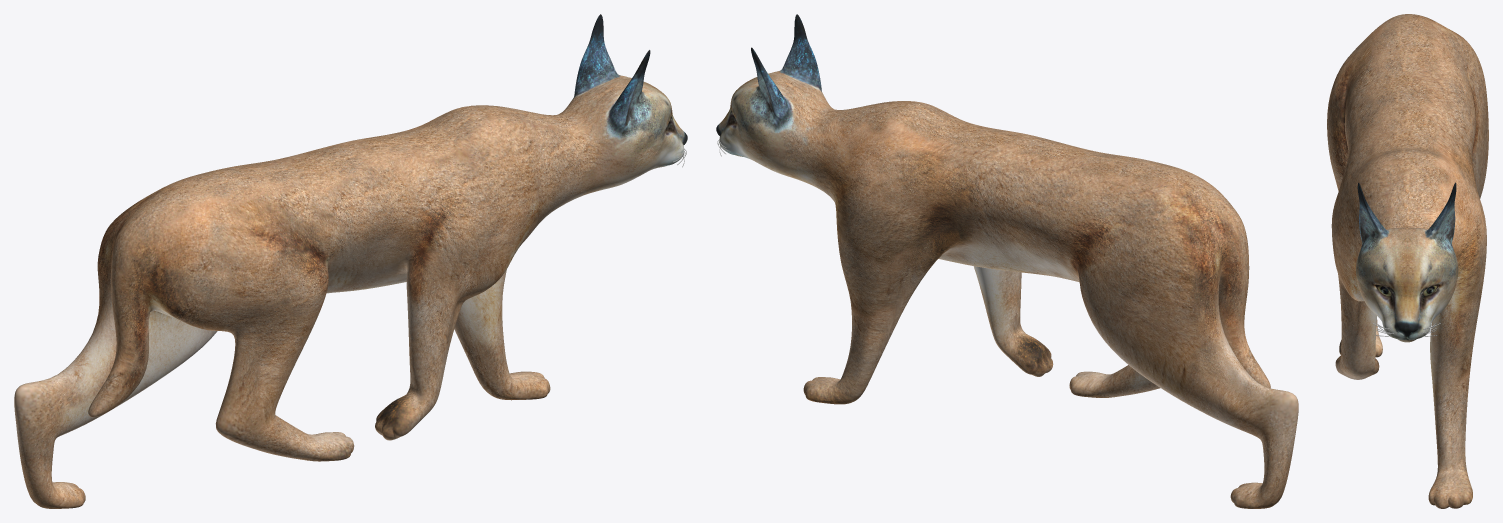
Rendered from forest_cat_3d_model_free.glb.
3 views of the same model, side by side, from view 1: azimuth 30°, elevation 25°; view 2: azimuth 150°, elevation 25°; view 3: azimuth 270°, elevation 25° (orthographic). The views are drawn at different scales.
Parts seen in each view (by area): view 1: 12161_Cat_v1_L2; view 2: 12161_Cat_v1_L2; view 3: 12161_Cat_v1_L2.
Boxes of the visible parts, bbox=[...] form: 12161_Cat_v1_L2: bbox=[14, 14, 687, 508]; 12161_Cat_v1_L2: bbox=[716, 14, 1298, 508]; 12161_Cat_v1_L2: bbox=[1327, 14, 1488, 508].
Size of the model in its own units: 9.84 by 5.22 by 2.15.
Materials: 2 (1 with a texture image).
